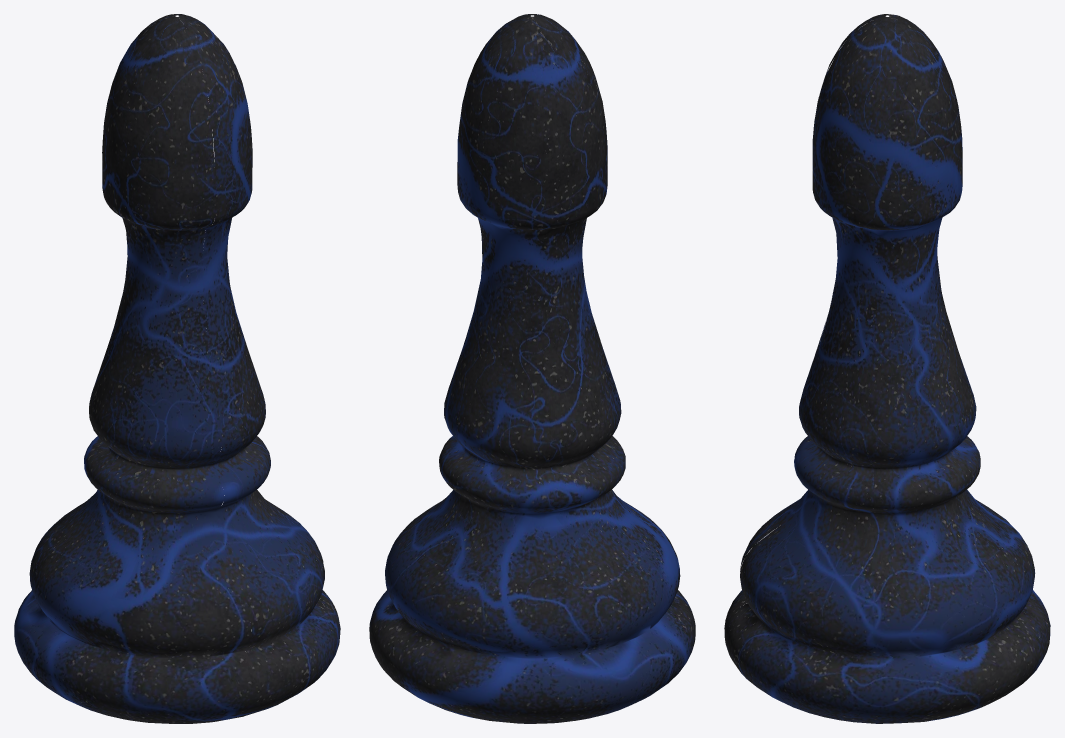
File: queen-black.glb
The picture shows the model from 3 angles, left to right: view 1: azimuth 30°, elevation 25°; view 2: azimuth 150°, elevation 25°; view 3: azimuth 270°, elevation 25°; orthographic projection.
Parts seen in each view (by area): view 1: Cobalt Vein black queen; view 2: Cobalt Vein black queen; view 3: Cobalt Vein black queen.
Part boxes in pixels (box(x1,y1,x2,y2)): Cobalt Vein black queen: box(14, 14, 340, 723); Cobalt Vein black queen: box(369, 14, 695, 723); Cobalt Vein black queen: box(724, 14, 1050, 723).
Size of the model in its own units: 0.6276 by 1.39 by 0.6276.
1 material, 1 textured.
